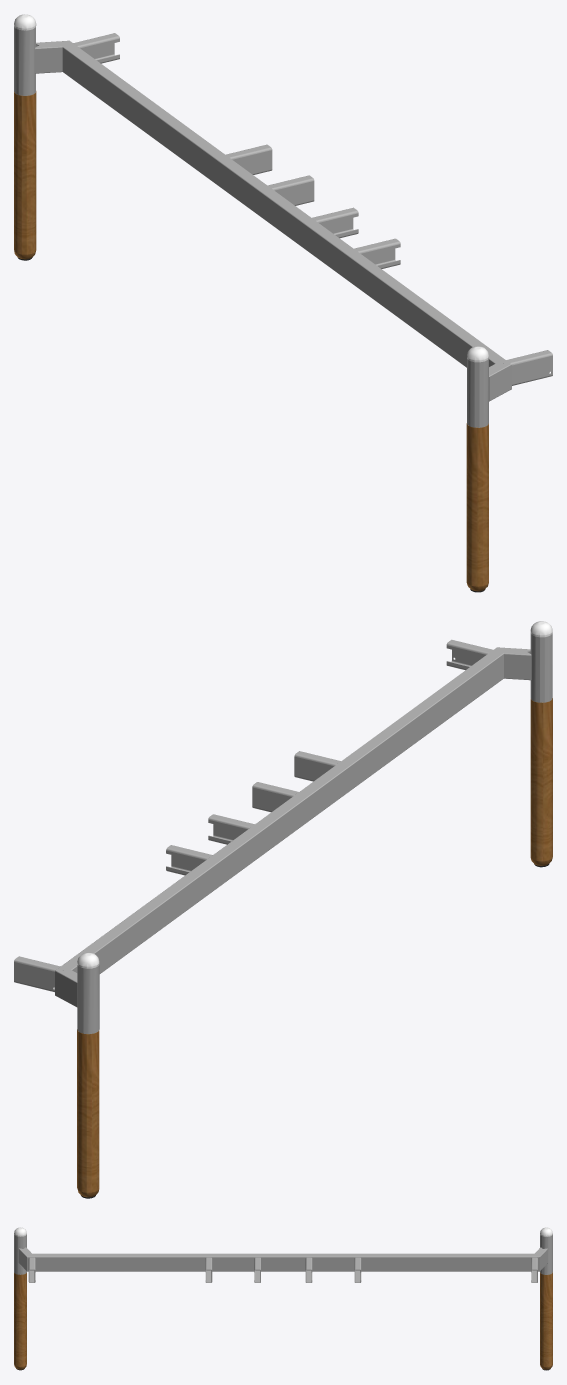
Rendered from HSO110000.glb.
3 views of the same model, one above another, from view 1: azimuth 30°, elevation 25°; view 2: azimuth 150°, elevation 25°; view 3: azimuth 270°, elevation 25° (orthographic). The views are drawn at different scales.
Parts seen in each view (by area): view 1: 37, 7, 8, 35, 41, 36, 39, 34, 44, 40, 38, 42 (+1 smaller); view 2: 37, 7, 8, 41, 35, 42, 38, 40, 43, 39, 34, 36 (+1 smaller); view 3: 37, 7, 8, 41, 35, 34, 38, 39, 36, 43.
Part boxes in pixels (<box>): 37: <box>62,41,510,367</box>; 7: <box>466,423,488,591</box>; 8: <box>14,91,36,259</box>; 35: <box>467,358,488,427</box>; 41: <box>14,26,35,95</box>; 36: <box>506,350,552,385</box>; 39: <box>226,144,272,174</box>; 34: <box>268,175,314,205</box>; 44: <box>35,40,69,73</box>; 40: <box>312,207,358,238</box>; 38: <box>354,238,400,268</box>; 42: <box>73,33,119,63</box>; 37: <box>56,647,503,973</box>; 7: <box>530,698,552,865</box>; 8: <box>77,1029,99,1197</box>; 41: <box>77,964,99,1034</box>; 35: <box>530,633,552,702</box>; 42: <box>14,956,60,992</box>; 38: <box>294,751,340,781</box>; 40: <box>252,782,298,812</box>; 43: <box>497,647,531,680</box>; 39: <box>166,845,212,875</box>; 34: <box>208,814,254,844</box>; 36: <box>446,639,492,670</box>; 37: <box>27,1253,539,1271</box>; 7: <box>14,1273,26,1369</box>; 8: <box>540,1272,552,1369</box>; 41: <box>540,1235,552,1274</box>; 35: <box>14,1235,26,1274</box>; 34: <box>305,1257,312,1282</box>; 38: <box>205,1257,212,1282</box>; 39: <box>354,1257,361,1282</box>; 36: <box>28,1257,35,1282</box>; 43: <box>18,1247,31,1270</box>.
Bounding box in the file's own units: 0.1514 × 0.3795 × 1.32.
Materials: 4 (1 with a texture image).
